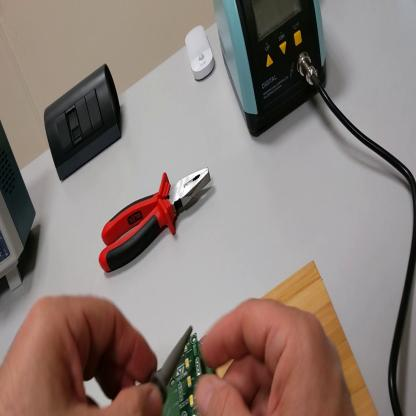hand: (1, 289, 163, 416), (198, 296, 355, 416)
low voltage board: (164, 324, 213, 416)
oscilloscope: (2, 120, 37, 289)
oscilloscope probe tip: (148, 325, 192, 404)
pliers: (99, 156, 211, 277)
welder station: (212, 3, 330, 139)
working area: (218, 259, 379, 415)
